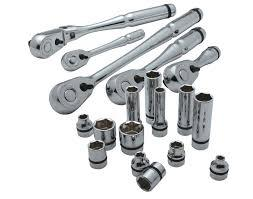wrench: (26, 1, 176, 59), (58, 26, 146, 72), (46, 72, 97, 115), (162, 56, 202, 92)
